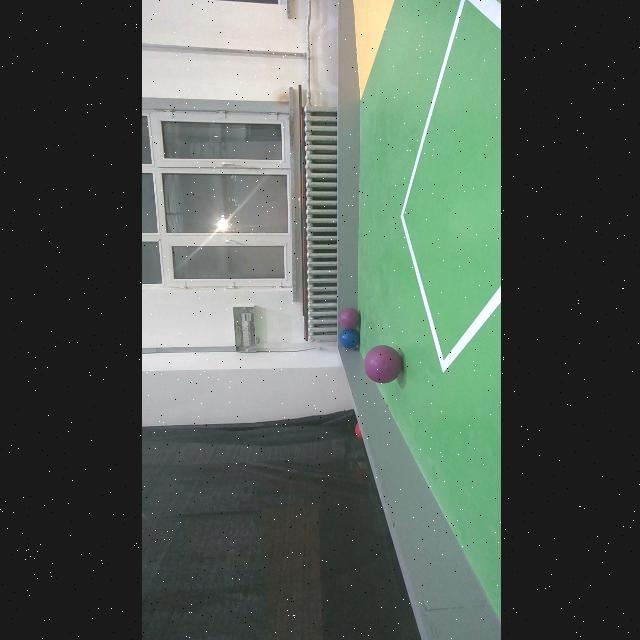B: (338, 328, 358, 348)
P: (362, 345, 400, 383), (338, 308, 358, 328)
